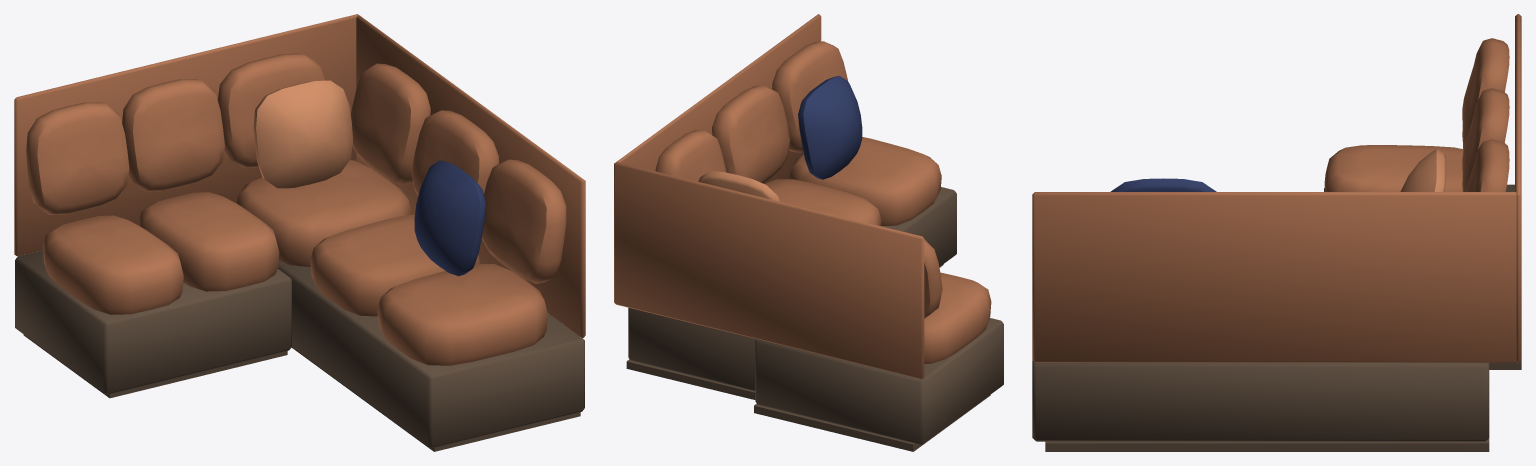
Rendered from banquette-lod1.glb.
The picture shows the model from 3 angles, left to right: view 1: azimuth 30°, elevation 25°; view 2: azimuth 150°, elevation 25°; view 3: azimuth 270°, elevation 25°; orthographic projection. The views are drawn at different scales.
Visible parts, largest first — view 1: banquette.lod1__rust boucle textile, banquette.lod1__honey ash, banquette.lod1__terracotta, banquette.lod1__indigo textile; view 2: banquette.lod1__rust boucle textile, banquette.lod1__honey ash, banquette.lod1__indigo textile, banquette.lod1__terracotta; view 3: banquette.lod1__rust boucle textile, banquette.lod1__honey ash, banquette.lod1__terracotta, banquette.lod1__indigo textile.
Part boxes in pixels (bbox=[...]): banquette.lod1__rust boucle textile: bbox=[14, 14, 585, 365]; banquette.lod1__honey ash: bbox=[15, 214, 584, 451]; banquette.lod1__terracotta: bbox=[253, 80, 353, 188]; banquette.lod1__indigo textile: bbox=[414, 160, 486, 276]; banquette.lod1__rust boucle textile: bbox=[614, 14, 991, 379]; banquette.lod1__honey ash: bbox=[626, 187, 1003, 451]; banquette.lod1__indigo textile: bbox=[798, 75, 862, 179]; banquette.lod1__terracotta: bbox=[698, 171, 779, 201]; banquette.lod1__rust boucle textile: bbox=[1032, 14, 1521, 362]; banquette.lod1__honey ash: bbox=[1032, 184, 1521, 451]; banquette.lod1__terracotta: bbox=[1400, 149, 1446, 191]; banquette.lod1__indigo textile: bbox=[1110, 178, 1216, 191].
Bounding box in the file's own units: 1.32 × 0.88 × 1.51.
